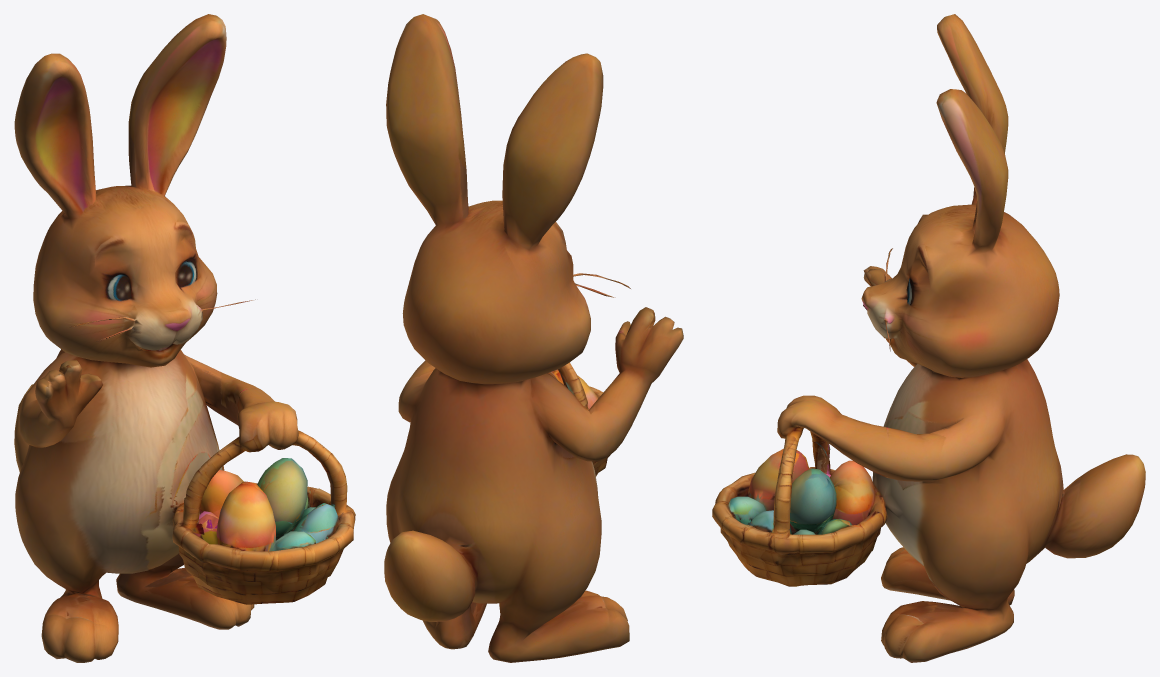
Rendered from bunny.glb.
3 renders of one model, left to right at view 1: azimuth 30°, elevation 25°; view 2: azimuth 150°, elevation 25°; view 3: azimuth 270°, elevation 25°, orthographic. The views are drawn at different scales.
Bounding box in the file's own units: 0.9516 × 2 × 1.39.
1 material, 1 textured.
